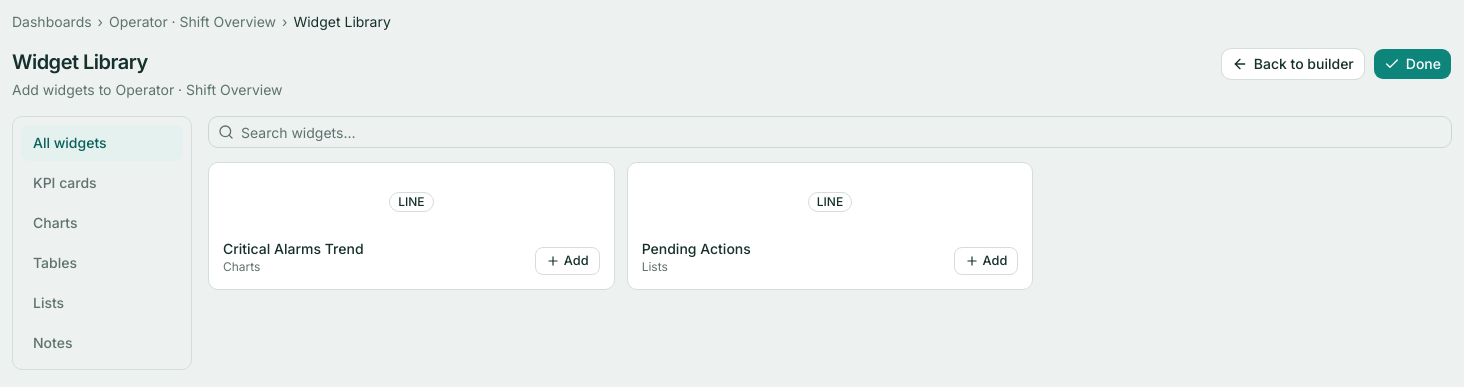
WidgetLibraryView › filters widgets by search term
The width and height of the screenshot is (1464, 387).
expect the text "Critical Alarms Trend" is shown: met, box [223,239,364,259]
In the field labelled "Search widgets": [830, 132] box [208,116,1452,148], type "pending"
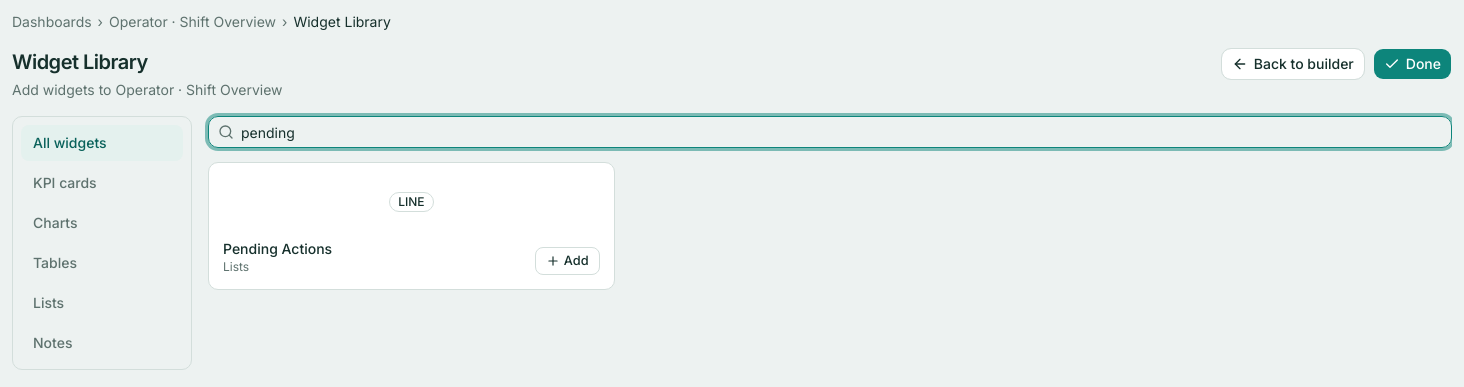
expect the text "Pending Actions" is shown: met, box [223,239,332,259]
expect the text "Critical Alarms Trend" is gone: met
